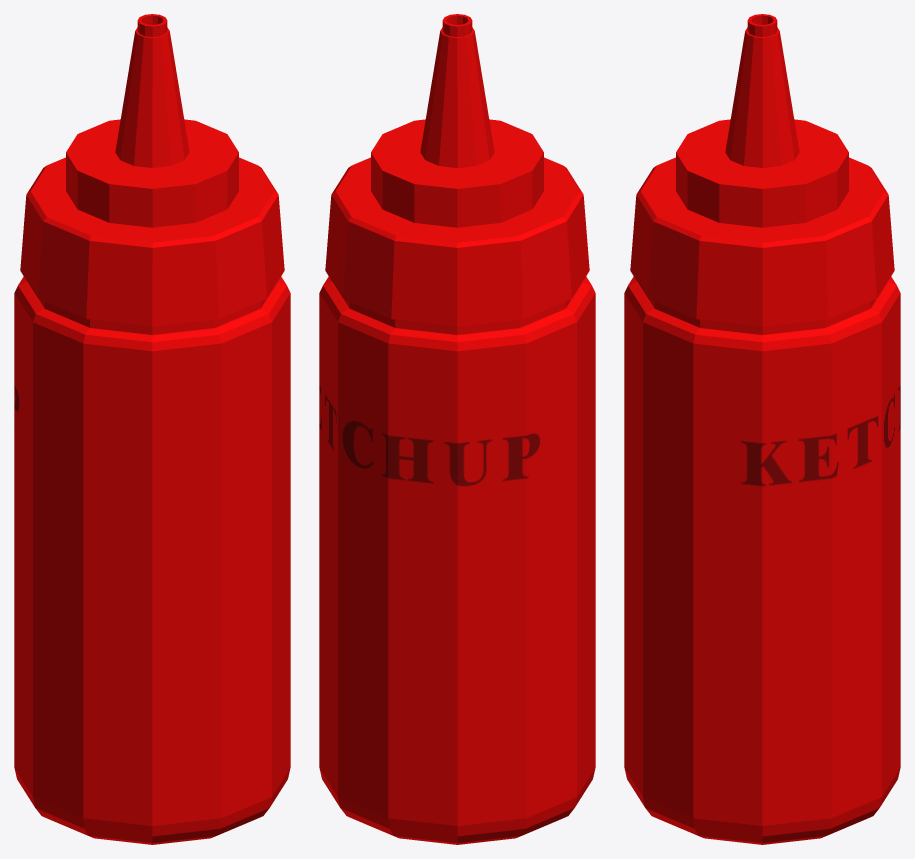
The model's file is ketchup.obj.
3 views of the same model, side by side, from view 1: azimuth 30°, elevation 25°; view 2: azimuth 150°, elevation 25°; view 3: azimuth 270°, elevation 25° (orthographic).
Visible parts, largest first — view 1: Cylinder; view 2: Cylinder; view 3: Cylinder.
Part boxes in pixels (x1=…): Cylinder: x1=14, y1=14, x2=290, y2=844; Cylinder: x1=319, y1=14, x2=595, y2=844; Cylinder: x1=624, y1=14, x2=900, y2=844.
Size of the model in its own units: 0.7191 by 2.23 by 0.7191.
